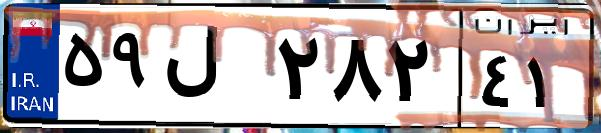1: (525, 38, 570, 115)
2: (270, 28, 330, 110), (385, 28, 445, 110)
4: (475, 38, 525, 113)
5: (57, 26, 110, 100)
8: (330, 28, 385, 110)
9: (110, 28, 158, 98)
ل: (158, 20, 270, 120)
